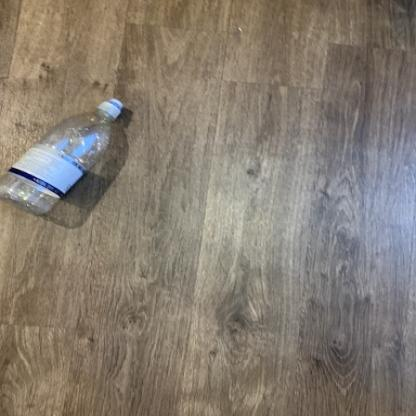trash: (0, 94, 127, 219)
